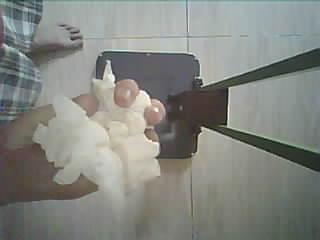paper: (33, 61, 160, 194)
